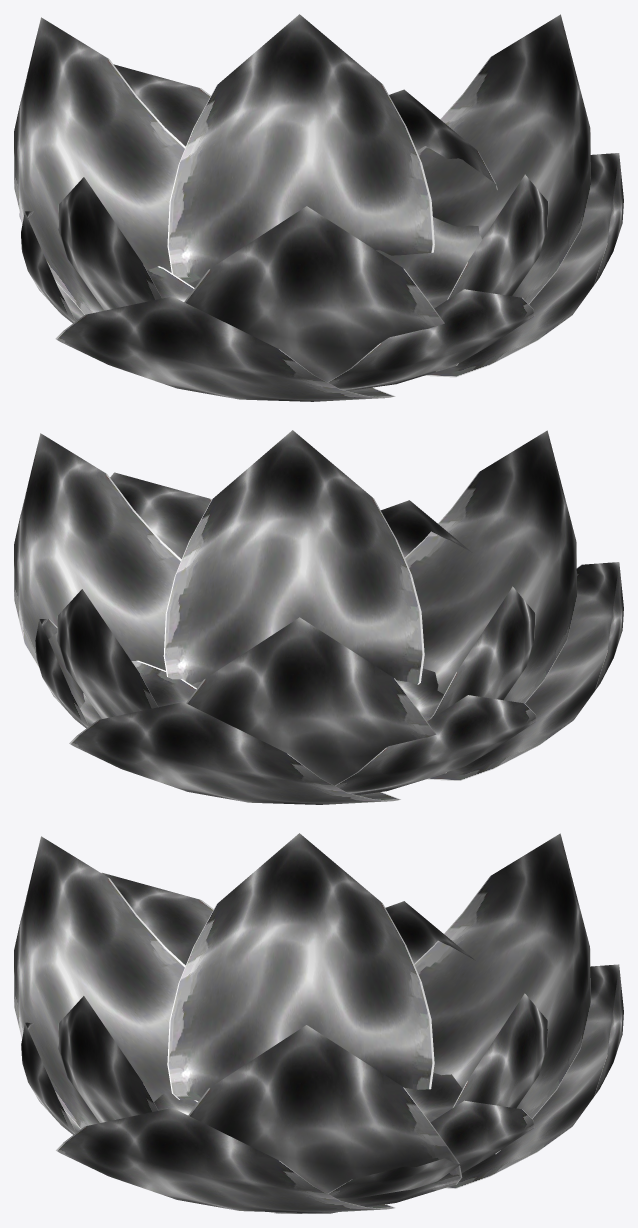
The model's file is effect_zhaohuanshi_juexing_shenti_huo_dongzuo #3360089.fbx.
3 views of the same model, one above another, from view 1: azimuth 30°, elevation 25°; view 2: azimuth 150°, elevation 25°; view 3: azimuth 270°, elevation 25° (orthographic). The views are drawn at different scales.
Parts seen in each view (by area): view 1: effect_Buff_shixue001, effect_Buff_shixue001 (1); view 2: effect_Buff_shixue001, effect_Buff_shixue001 (1); view 3: effect_Buff_shixue001, effect_Buff_shixue001 (1).
Part boxes in pixels (box(x1,y1,x2,y2)): effect_Buff_shixue001: box(14, 14, 590, 390); effect_Buff_shixue001 (1): box(18, 64, 623, 401); effect_Buff_shixue001: box(14, 430, 576, 795); effect_Buff_shixue001 (1): box(35, 472, 623, 804); effect_Buff_shixue001: box(14, 833, 590, 1213); effect_Buff_shixue001 (1): box(19, 872, 623, 1213).
Size of the model in its own units: 1.56 by 0.7777 by 1.53.
